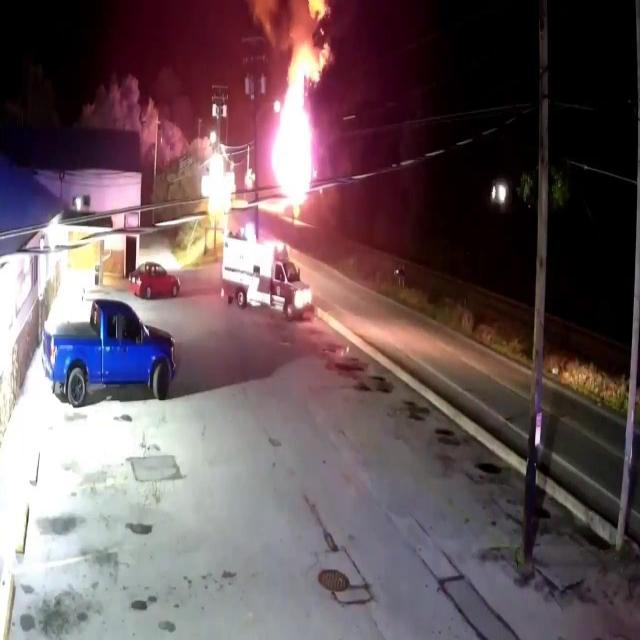Fire: (270, 42, 326, 196)
